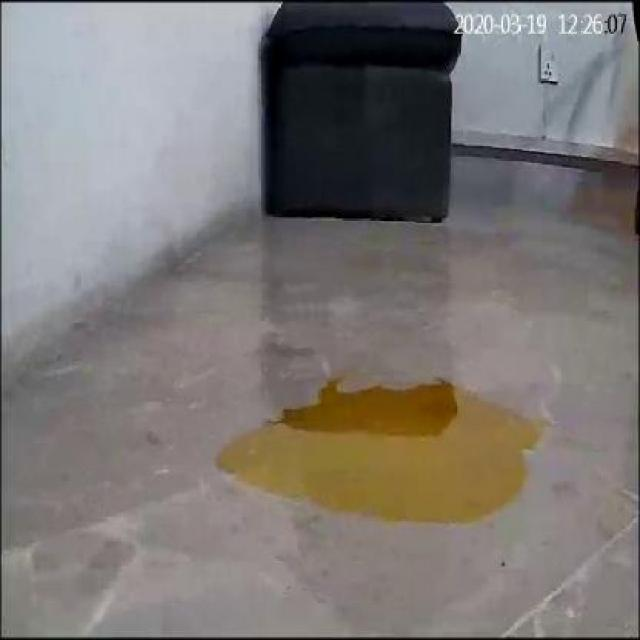spill: (214, 365, 546, 533)
